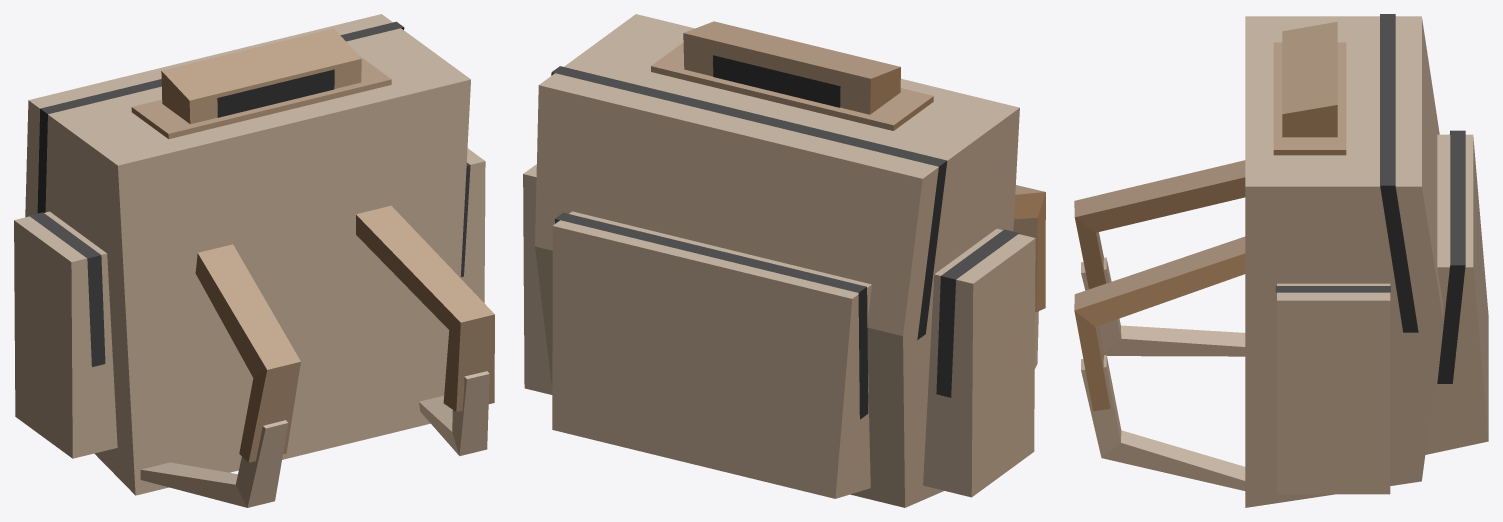
The model's file is Item_Backpack01.FBX.
The picture shows the model from 3 angles, left to right: view 1: azimuth 30°, elevation 25°; view 2: azimuth 150°, elevation 25°; view 3: azimuth 270°, elevation 25°; orthographic projection. The views are drawn at different scales.
Parts seen in each view (by area): view 1: Item_Backpack01; view 2: Item_Backpack01; view 3: Item_Backpack01.
Boxes of the visible parts, box(x1,y1,x2,y2) form: Item_Backpack01: box(14, 14, 494, 507); Item_Backpack01: box(523, 14, 1045, 507); Item_Backpack01: box(1074, 14, 1488, 507).
Size of the model in its own units: 48.36 by 41.63 by 42.46.
